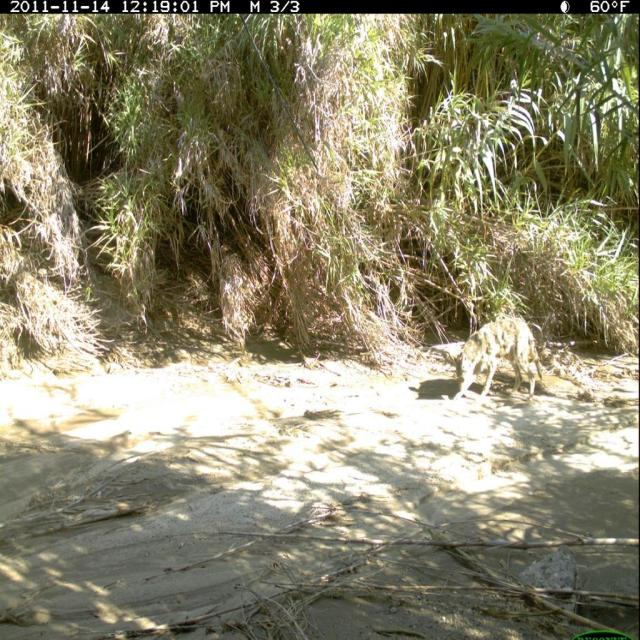coyote: (450, 311, 565, 417)
